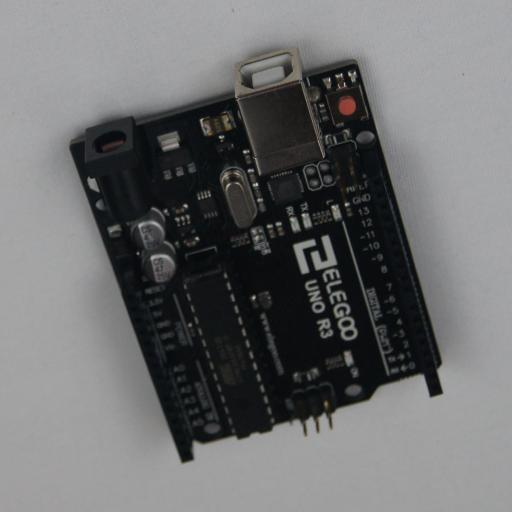Arduino Uno -Black-: (69, 52, 443, 463)
